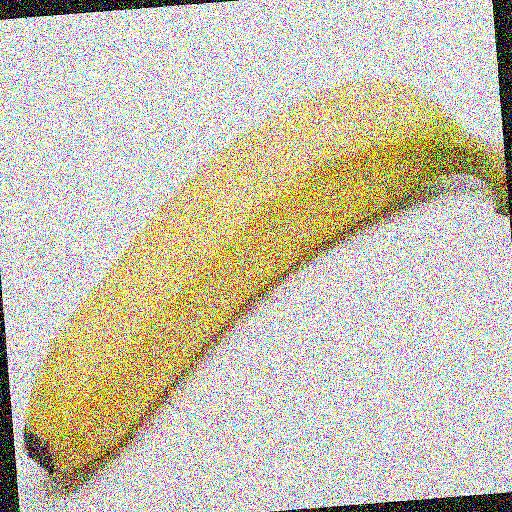fruit: (498, 94, 512, 327)
